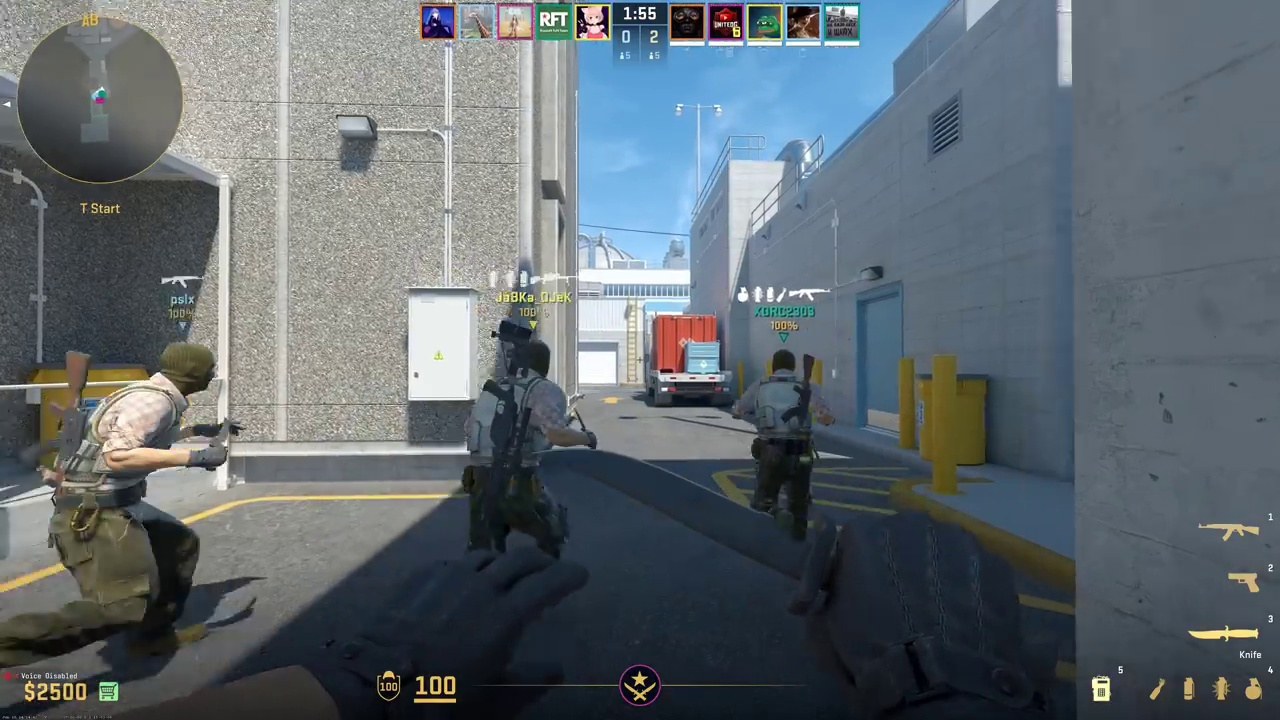Terrorist: (48, 342, 213, 679), (471, 339, 570, 574), (750, 349, 820, 541)
